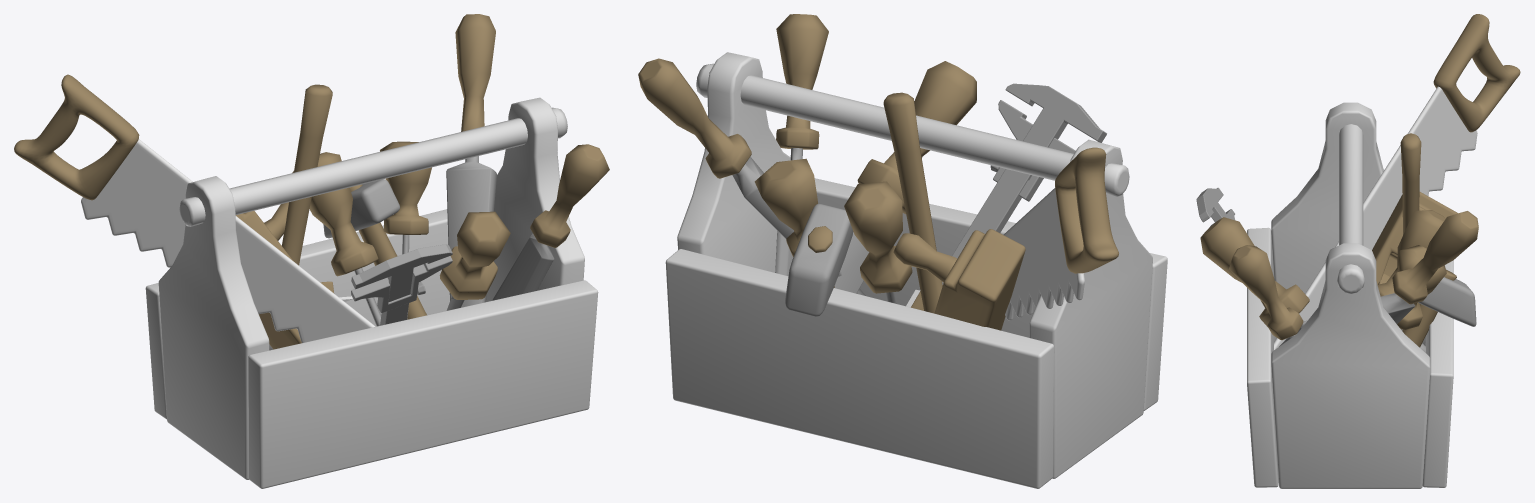
The model's file is tools3.glb.
3 renders of one model, left to right at view 1: azimuth 30°, elevation 25°; view 2: azimuth 150°, elevation 25°; view 3: azimuth 270°, elevation 25°, orthographic. The views are drawn at different scales.
Visible parts, largest first — view 1: Cube.042, Cube.041, saw.002, Circle.018, Cube.045, Cube.046, Cube.044, Circle.024, Circle.028, Circle.026, hammer.003, Circle.020 (+8 smaller); view 2: Cube.044, Cube.041, Cube.045, Circle.018, Cube.042, rub.002, Cube.046, saw.002, Cube.050, Circle.028, Circle.020, hammer.003 (+9 smaller); view 3: Cube.045, Cube.041, saw.002, Cube.042, Cube.046, Cube.044, Circle.018, Circle.028, Circle.026, Circle.024, rub.002, Cube.043 (+6 smaller).
Boxes of the visible parts, x1,y1,x2,y2 form: Cube.042: [248, 280, 598, 488]; Cube.041: [158, 176, 269, 479]; saw.002: [81, 139, 375, 342]; Circle.018: [179, 107, 567, 226]; Cube.045: [486, 97, 584, 301]; Cube.046: [14, 74, 139, 200]; Cube.044: [145, 209, 449, 419]; Circle.024: [439, 211, 510, 299]; Circle.028: [455, 14, 495, 131]; Circle.026: [530, 144, 609, 247]; hammer.003: [282, 84, 332, 265]; Circle.020: [292, 152, 378, 276]; Cube.044: [665, 249, 1054, 488]; Cube.041: [1029, 139, 1152, 478]; Cube.045: [677, 52, 790, 272]; Circle.018: [696, 63, 1129, 196]; Cube.042: [814, 178, 1167, 410]; rub.002: [934, 229, 1025, 330]; Cube.046: [1055, 147, 1118, 273]; saw.002: [1003, 188, 1084, 320]; Cube.050: [942, 83, 1106, 284]; Circle.028: [638, 58, 751, 178]; Circle.020: [844, 181, 912, 293]; hammer.003: [883, 92, 942, 313]; Cube.045: [1271, 243, 1430, 488]; Cube.041: [1271, 102, 1383, 293]; saw.002: [1273, 86, 1477, 349]; Cube.042: [1247, 227, 1278, 487]; Cube.046: [1433, 14, 1520, 132]; Cube.044: [1422, 260, 1453, 487]; Circle.018: [1337, 124, 1364, 293]; Circle.028: [1392, 211, 1478, 304]; Circle.026: [1229, 245, 1303, 340]; Circle.024: [1200, 217, 1309, 326]; rub.002: [1372, 192, 1457, 329]; Cube.043: [1418, 277, 1476, 326].
Bounding box in the file's own units: 1.94 × 1.37 × 1.33.
